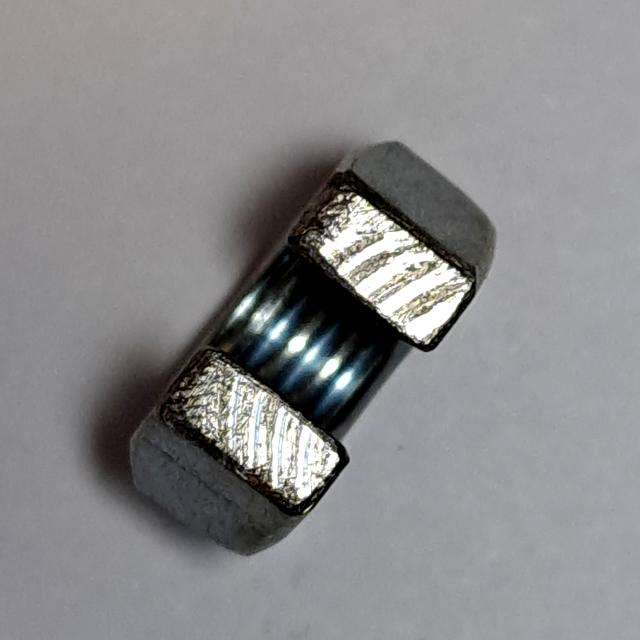Side-Fracture: (117, 124, 508, 578)
